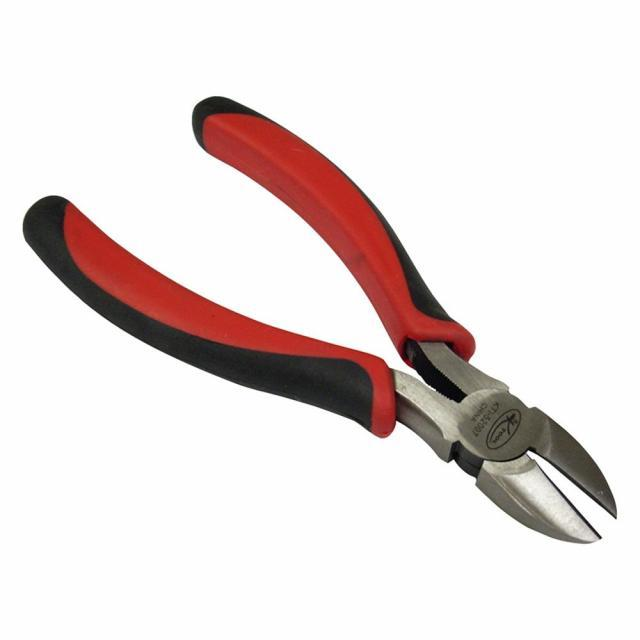pliers: (17, 87, 620, 552)
